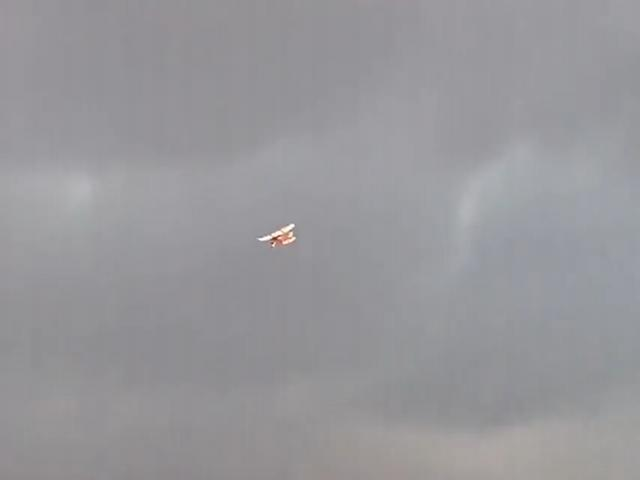plane: (256, 223, 299, 249)
